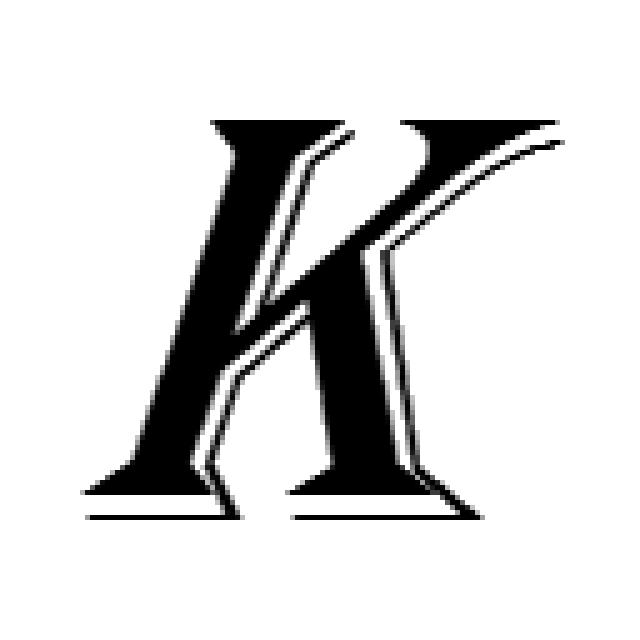K: (121, 118, 580, 512)
